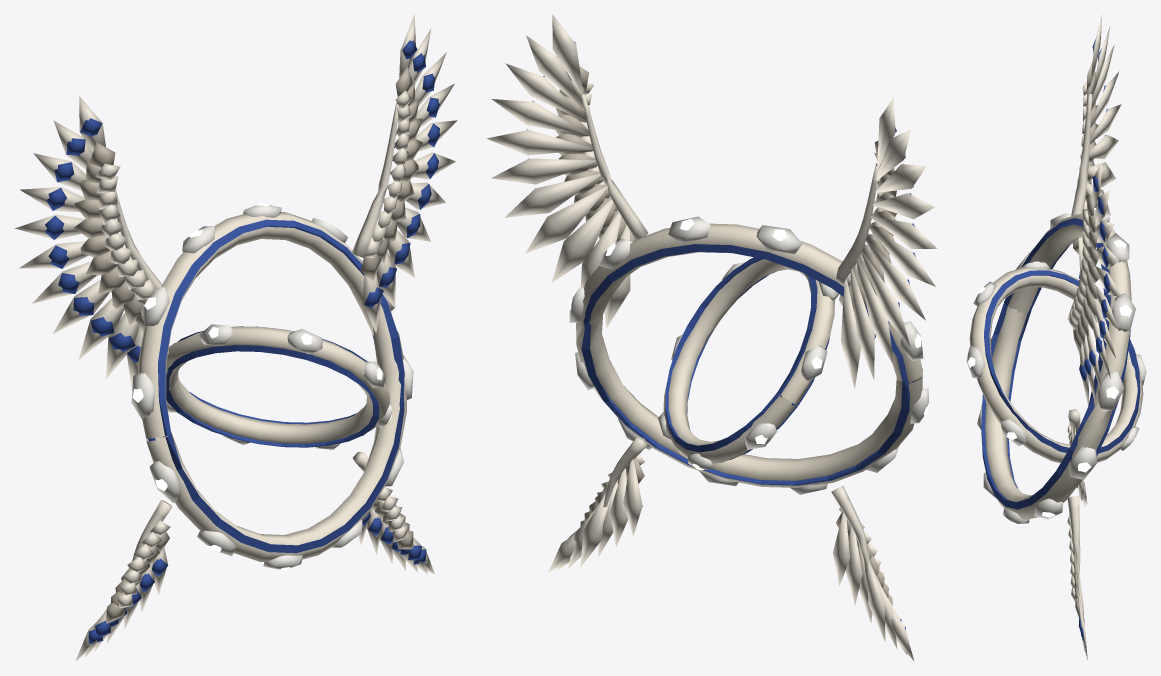
Rendered from angel-eye-wheel.glb.
3 views of the same model, side by side, from view 1: azimuth 30°, elevation 25°; view 2: azimuth 150°, elevation 25°; view 3: azimuth 270°, elevation 25° (orthographic). The views are drawn at different scales.
Visible parts, largest first — view 1: spin_ring, glide_wing_r, glide_wing_l, spin_ring2_r, glide_wing2_r, glide_wing2_l; view 2: spin_ring, glide_wing_l, glide_wing_r, spin_ring2_r, glide_wing2_l, glide_wing2_r; view 3: spin_ring, spin_ring2_r, glide_wing_l, glide_wing_r, glide_wing2_l, glide_wing2_r.
Boxes of the visible parts, x1=… form: spin_ring: x1=131, y1=203, x2=413, y2=571; glide_wing_r: x1=14, y1=96, x2=162, y2=391; glide_wing_l: x1=351, y1=14, x2=457, y2=332; spin_ring2_r: x1=166, y1=324, x2=392, y2=449; glide_wing2_r: x1=75, y1=500, x2=172, y2=661; glide_wing2_l: x1=352, y1=451, x2=434, y2=573; spin_ring: x1=569, y1=216, x2=929, y2=494; glide_wing_l: x1=486, y1=14, x2=648, y2=328; glide_wing_r: x1=836, y1=97, x2=937, y2=388; spin_ring2_r: x1=658, y1=257, x2=839, y2=470; glide_wing2_l: x1=548, y1=436, x2=647, y2=572; glide_wing2_r: x1=831, y1=486, x2=914, y2=661; spin_ring: x1=977, y1=208, x2=1135, y2=524; spin_ring2_r: x1=966, y1=261, x2=1146, y2=462; glide_wing_l: x1=1067, y1=160, x2=1121, y2=405; glide_wing_r: x1=1071, y1=14, x2=1121, y2=278; glide_wing2_l: x1=1067, y1=496, x2=1087, y2=660; glide_wing2_r: x1=1067, y1=409, x2=1087, y2=508.
Bounding box in the file's own units: 0.7868 × 0.9448 × 0.3108.
